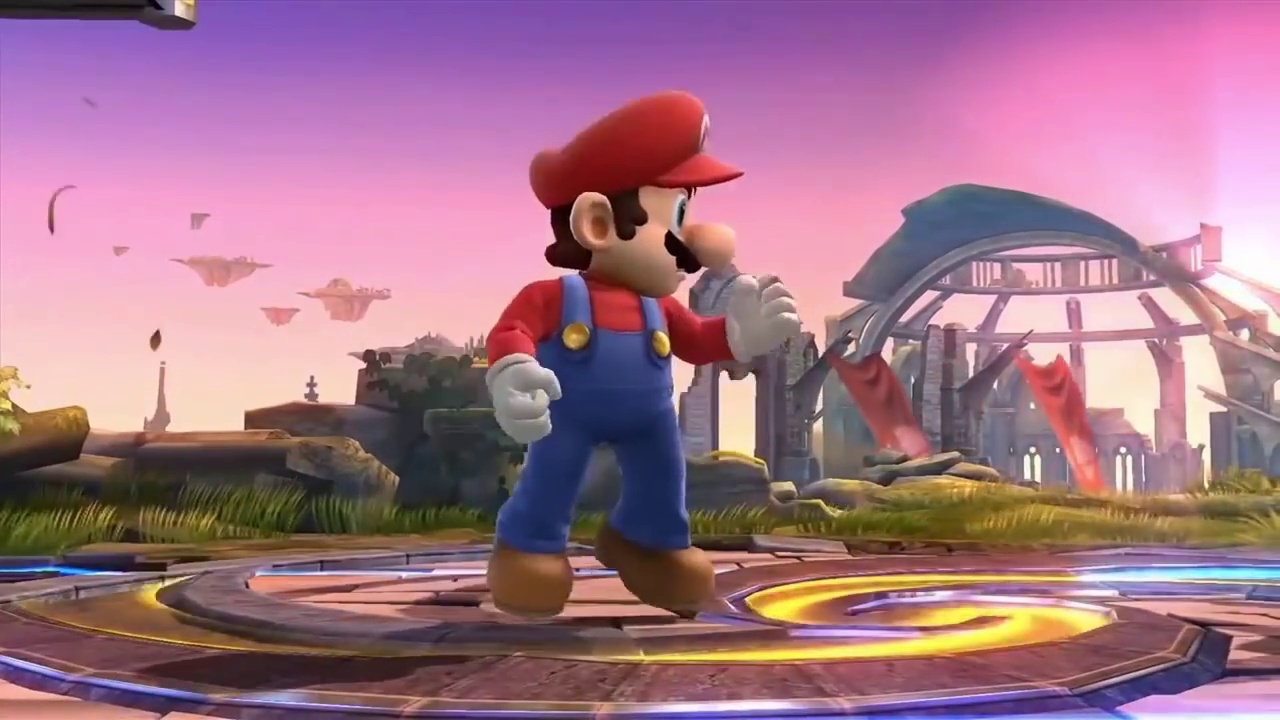Mario: (485, 90, 799, 614)
